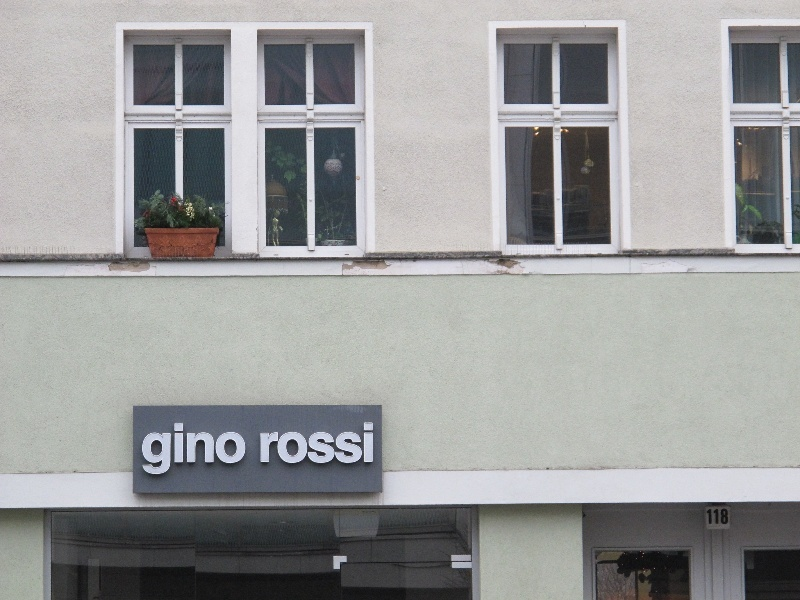text: (145, 423, 160, 475), (161, 423, 176, 475), (177, 423, 192, 475), (193, 423, 208, 475), (209, 423, 224, 475), (225, 423, 240, 475), (273, 423, 288, 465), (289, 423, 304, 465), (305, 423, 320, 465), (321, 423, 336, 465), (337, 423, 352, 465), (353, 423, 368, 465), (261, 423, 272, 465), (241, 423, 246, 475), (707, 509, 720, 524), (369, 423, 373, 465), (721, 509, 728, 524), (143, 423, 144, 475)
